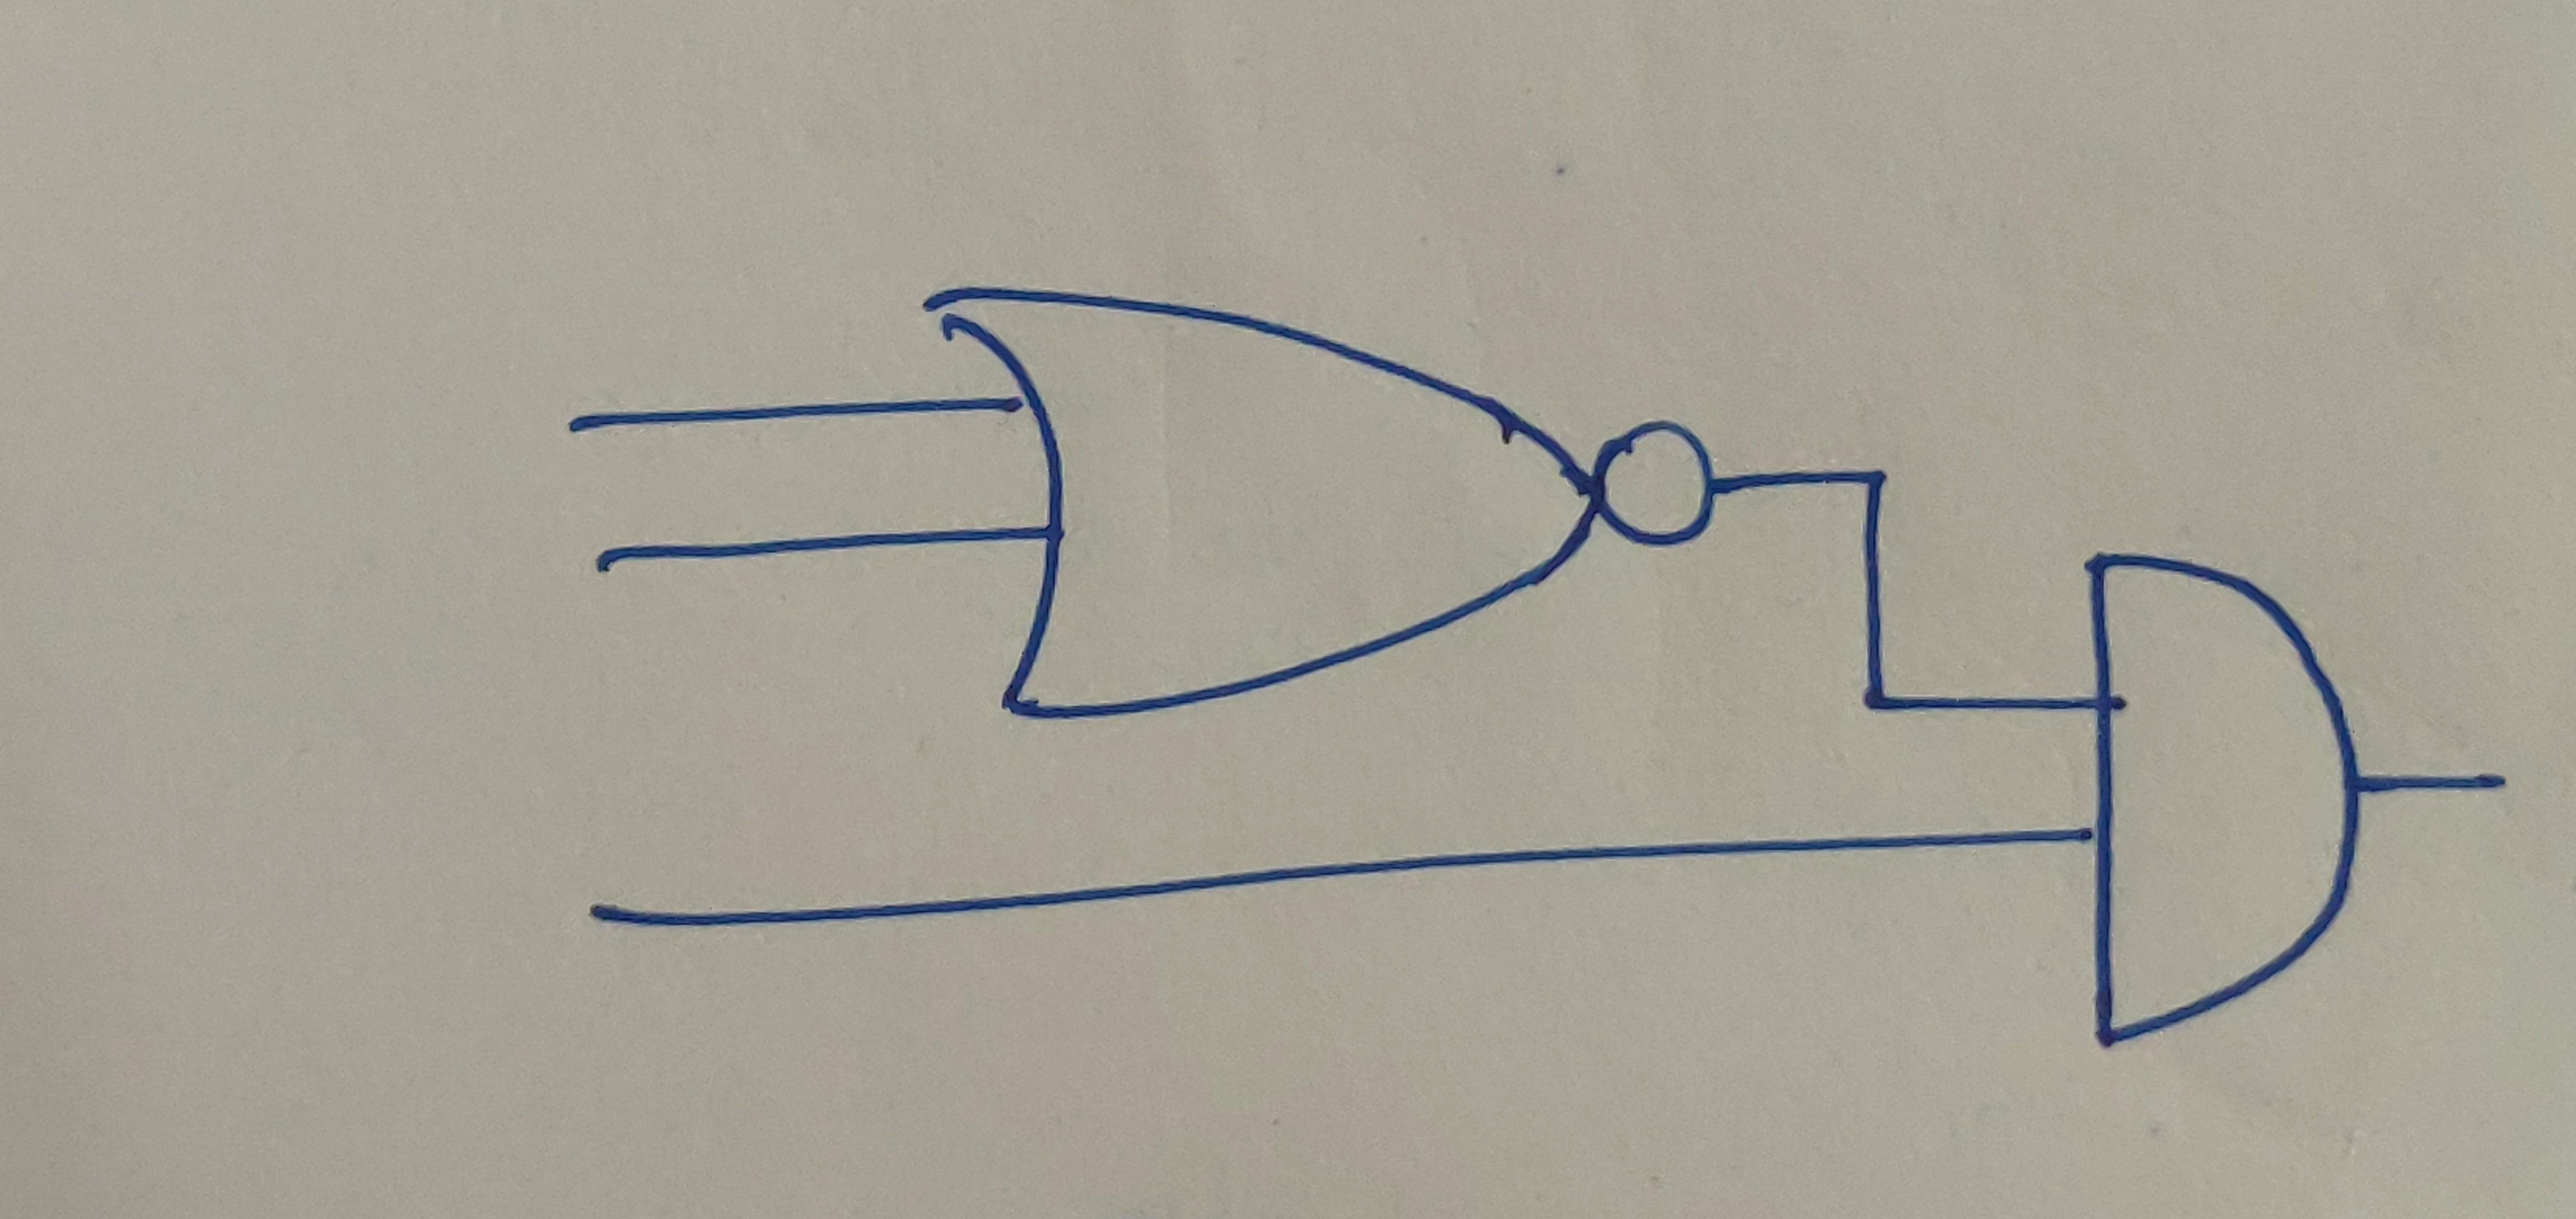and: (2085, 550, 2361, 1055)
not: (1597, 416, 1718, 554)
or: (918, 279, 1607, 721)
